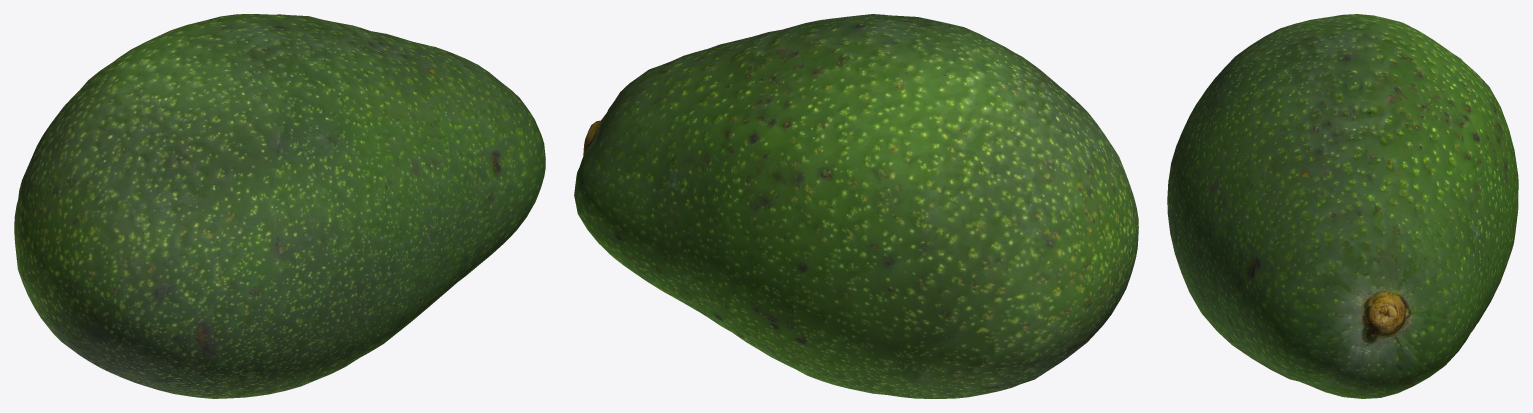
File: avocado-0.glb
3 views of the same model, side by side, from view 1: azimuth 30°, elevation 25°; view 2: azimuth 150°, elevation 25°; view 3: azimuth 270°, elevation 25° (orthographic). The views are drawn at different scales.
Visible parts, largest first — view 1: Object_2; view 2: Object_2; view 3: Object_2.
Boxes of the visible parts, <box> form: Object_2: <box>14,14,545,398</box>; Object_2: <box>574,14,1138,398</box>; Object_2: <box>1167,14,1518,398</box>.
Size of the model in its own units: 15.41 by 10.07 by 9.96.
Materials: 1 (1 with a texture image).
